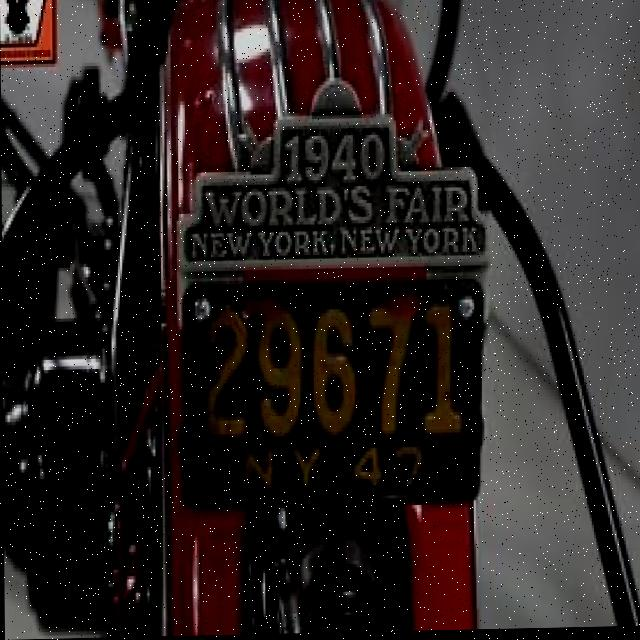plate: (178, 280, 481, 508)
